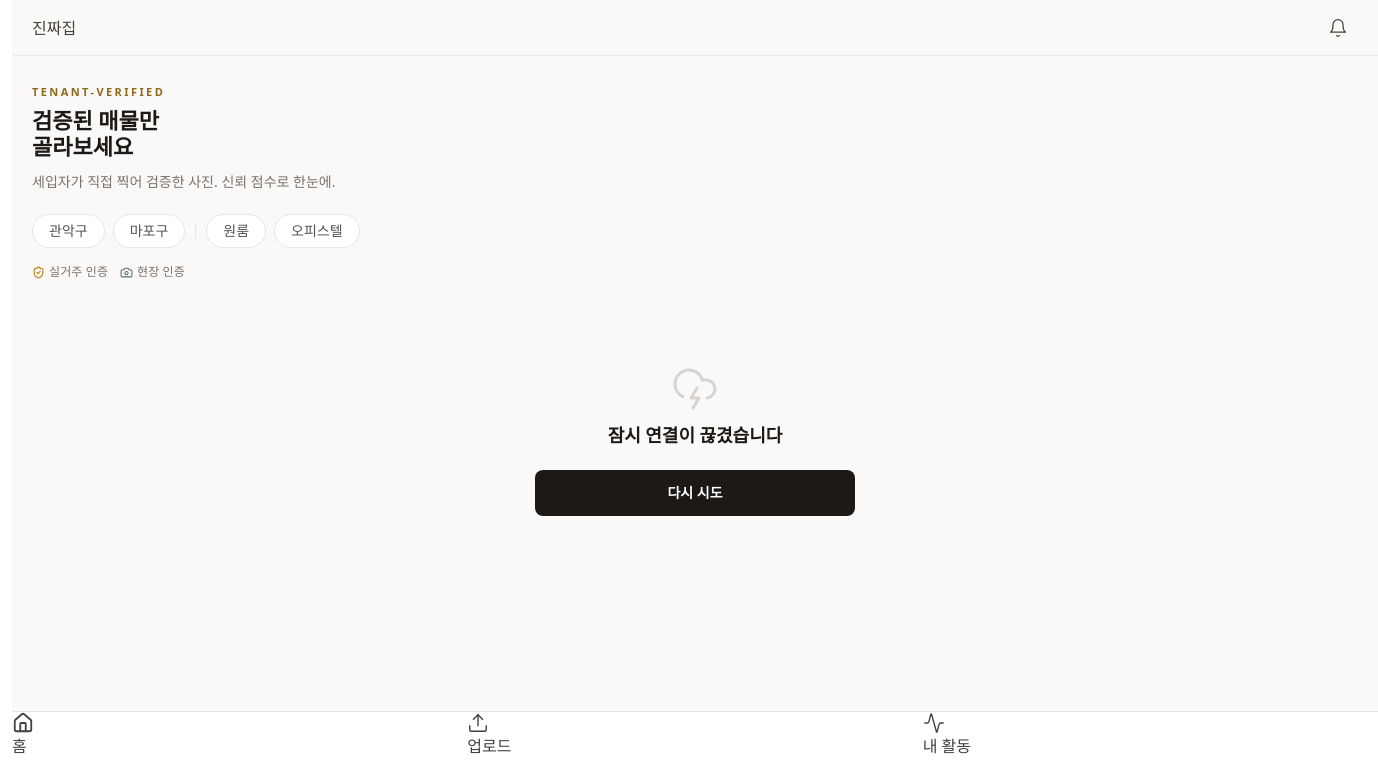
재시도 버튼 동작 › ErrorState 재시도 클릭 → refetch 발생(두 번째 성공 시 목록 표시)
Click the button "다시 시도".
click(695, 493)  # box [535, 470, 855, 516]
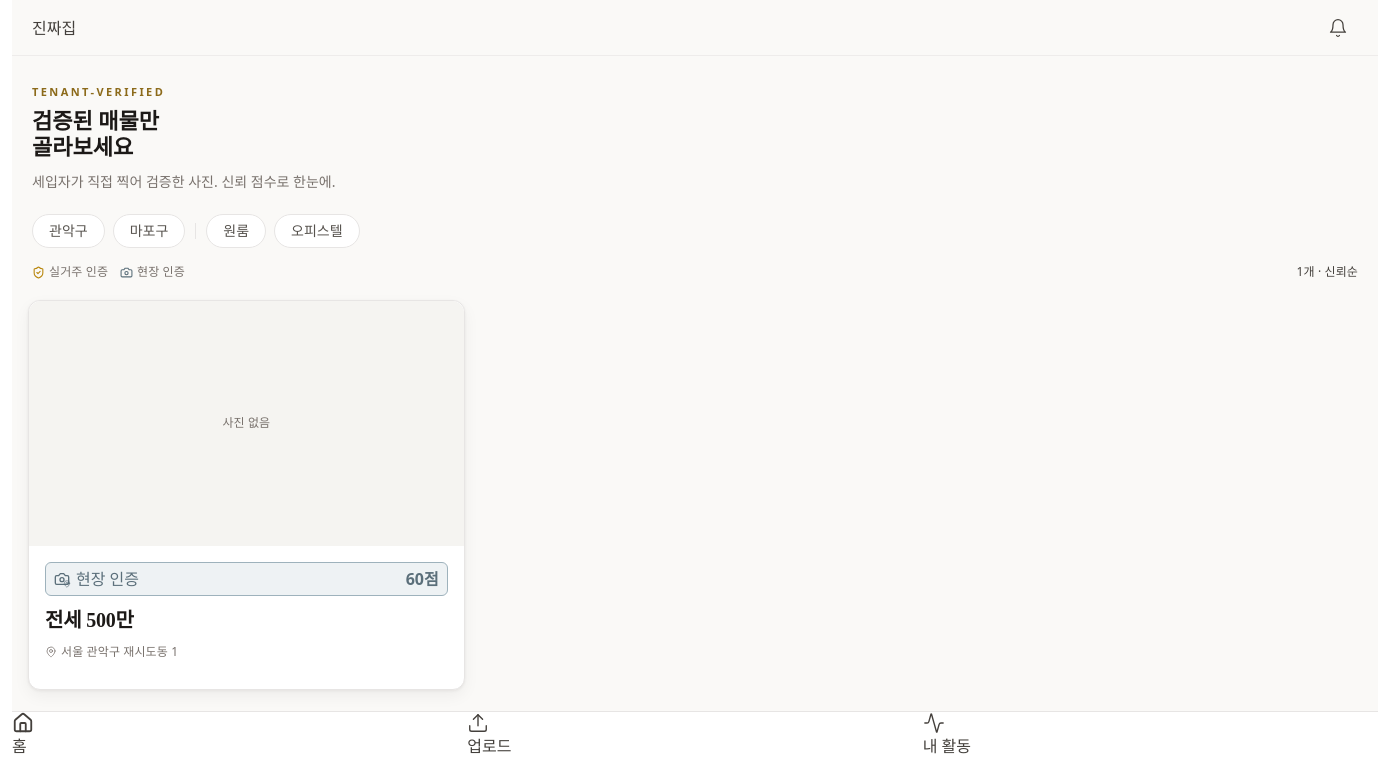
expect the list named "매물 목록" is shown: met, box [28, 300, 465, 690]
expect the text "서울 관악구 재시도동 1" is shown: met, box [61, 644, 178, 661]
